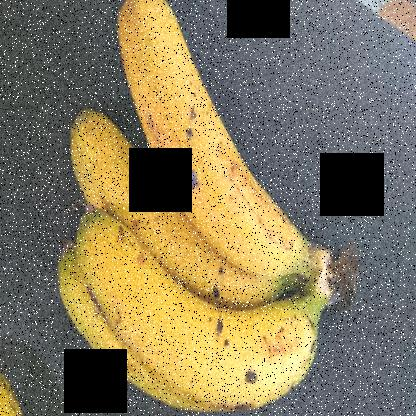ripe: (110, 1, 326, 284), (71, 220, 334, 392), (56, 111, 227, 291)
